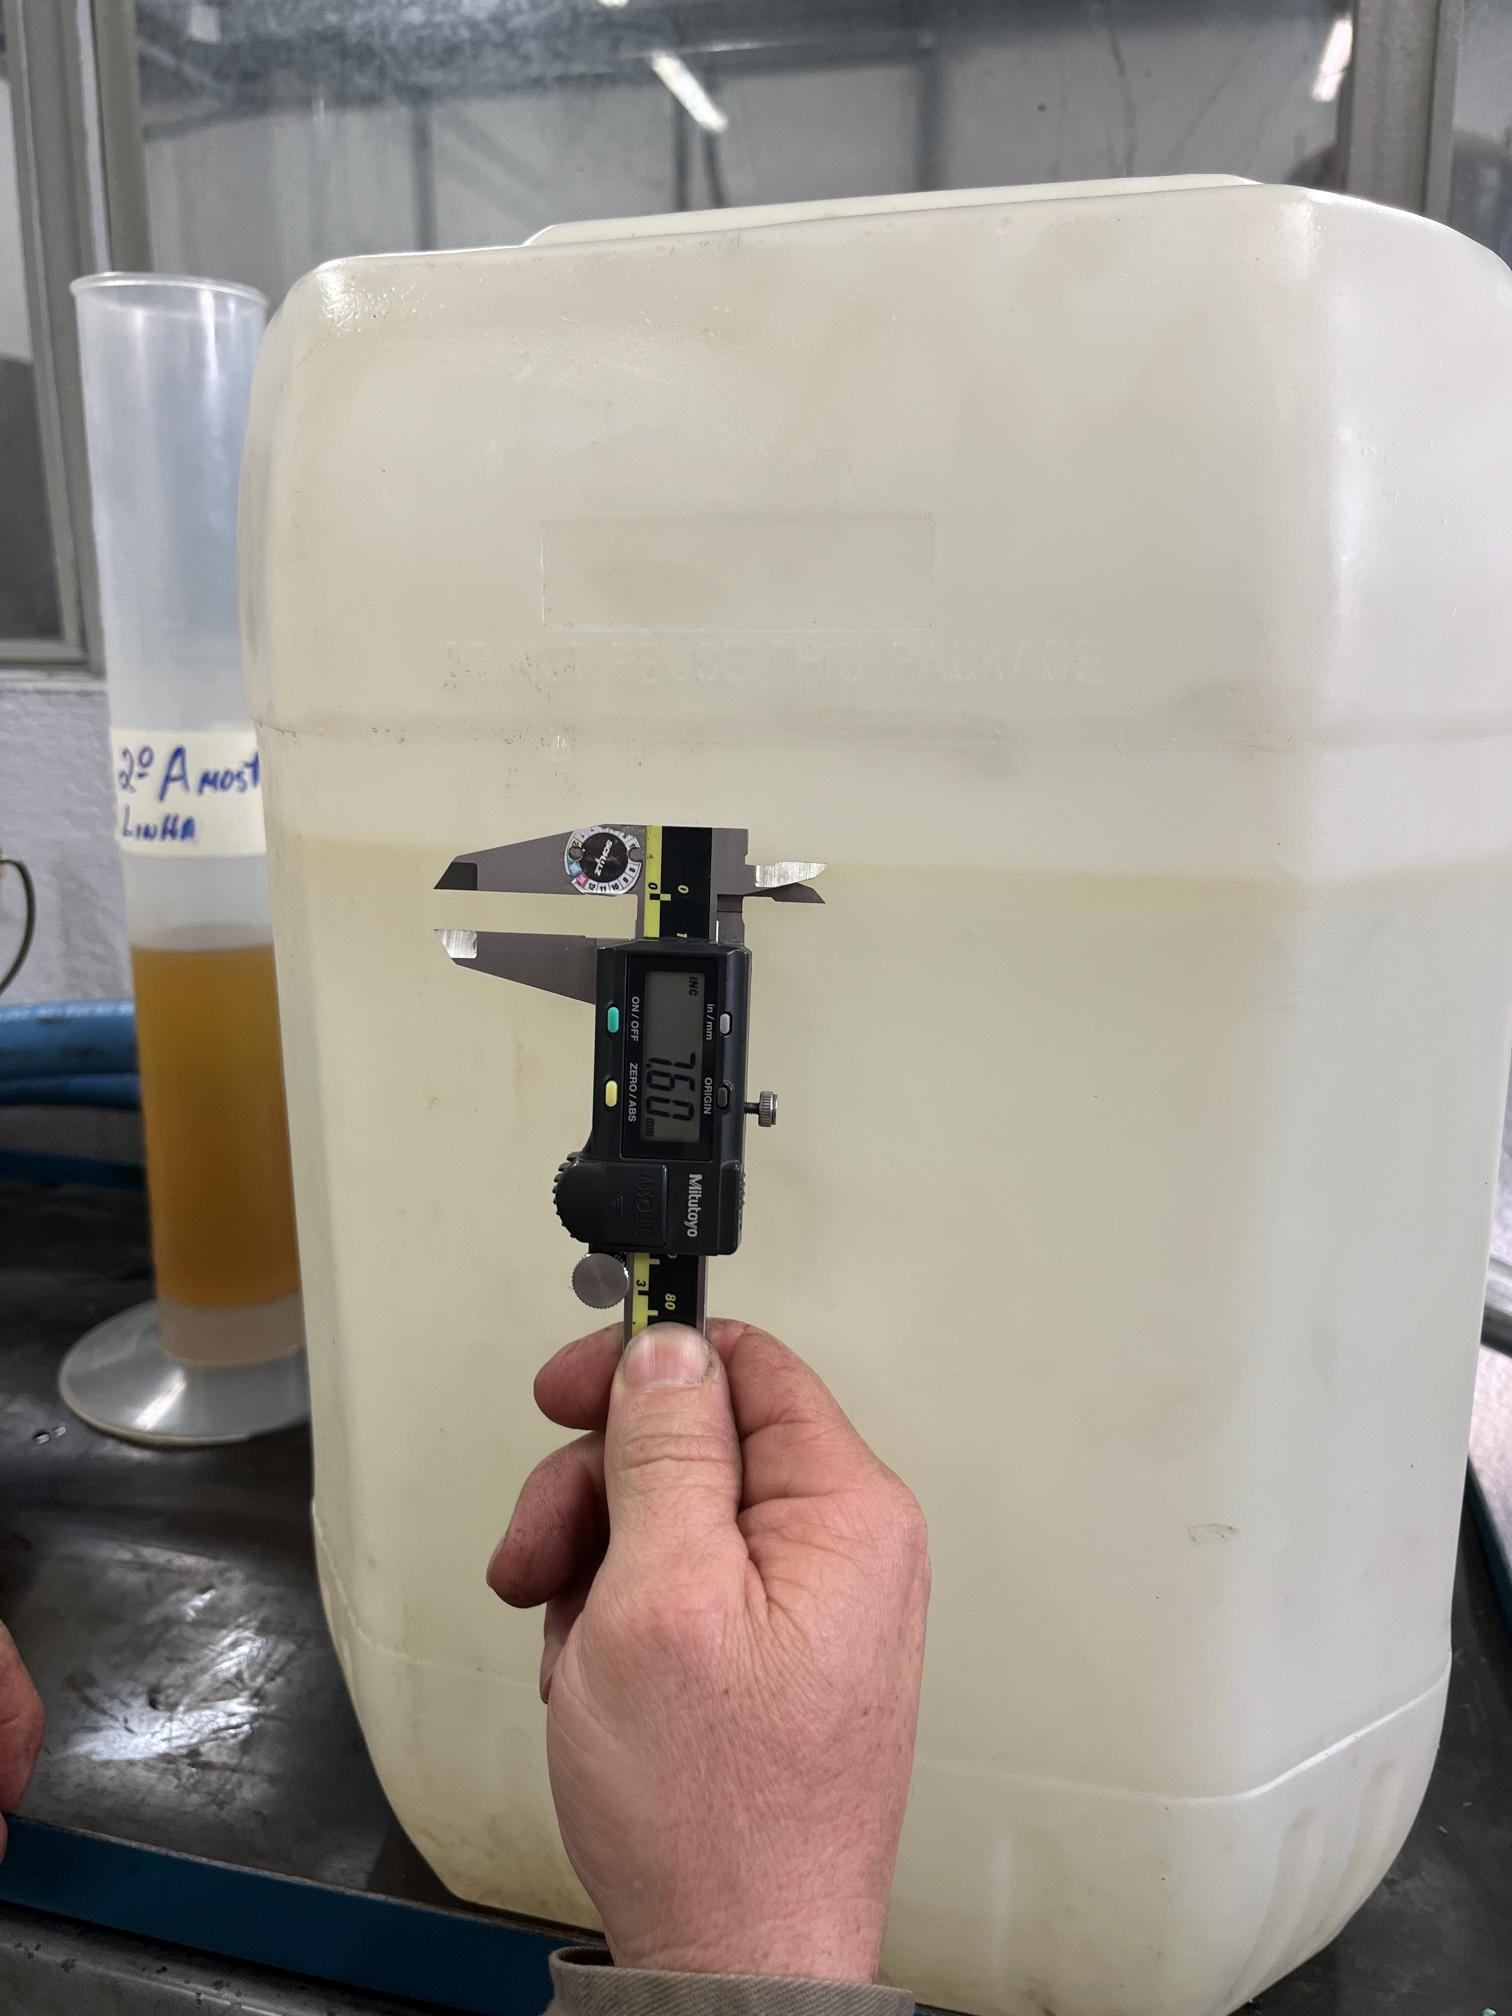Galao: (195, 156, 1450, 1945)
